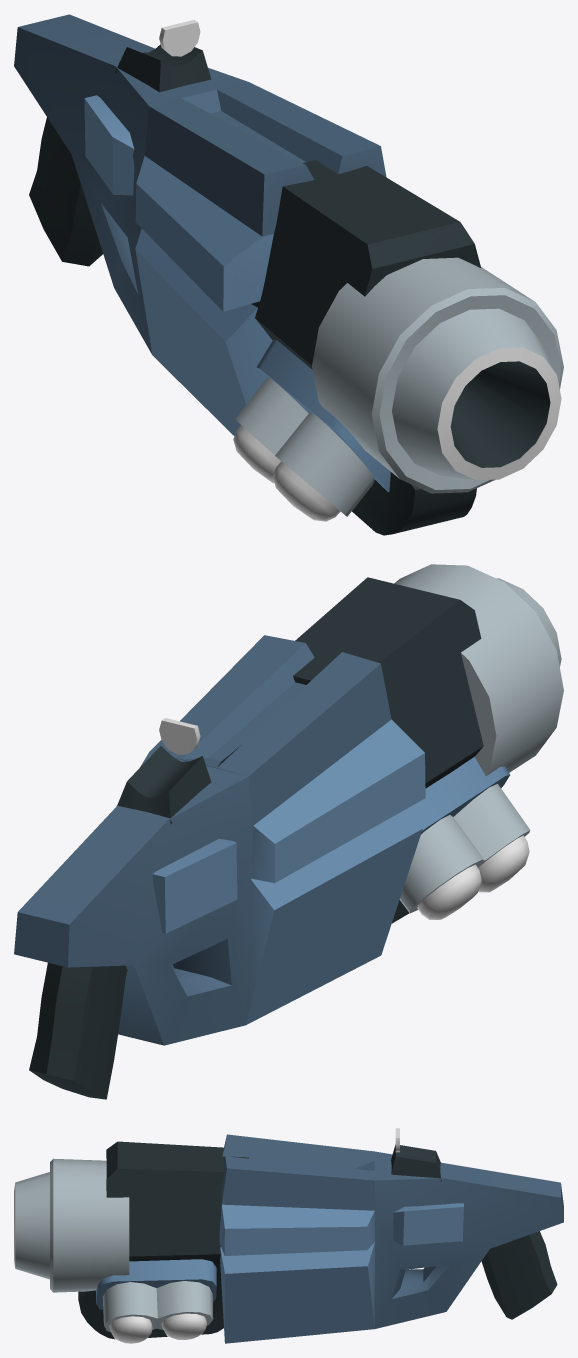
Rendered from spaceSoldierBlaster.fbx.
3 views of the same model, one above another, from view 1: azimuth 30°, elevation 25°; view 2: azimuth 150°, elevation 25°; view 3: azimuth 270°, elevation 25° (orthographic). The views are drawn at different scales.
Parts seen in each view (by area): view 1: spaceSoldierBlaster; view 2: spaceSoldierBlaster; view 3: spaceSoldierBlaster.
Part boxes in pixels (x1,y1,x2,y2): spaceSoldierBlaster: [14, 14, 563, 535]; spaceSoldierBlaster: [14, 564, 563, 1099]; spaceSoldierBlaster: [14, 1128, 563, 1343].
Bounding box in the file's own units: 0.3649 × 0.463 × 1.18.
